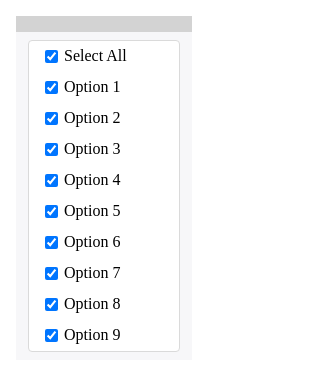
Test: MultiCheck › Select All interactions › should uncheck all option checkboxes when clicking "Select All" checkbox
Click the checkbox showing "SELECT_ALL" at [52, 56], box top-left (45, 50), bottom-right (58, 63)
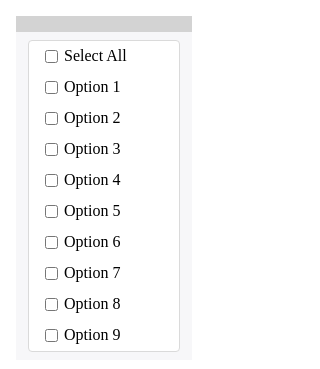
Expected: the checkbox showing "1" is not checked, top-left (45, 81), bottom-right (58, 94)
Expected: the checkbox showing "2" is not checked, top-left (45, 112), bottom-right (58, 125)
Expected: the checkbox showing "3" is not checked, top-left (45, 143), bottom-right (58, 156)
